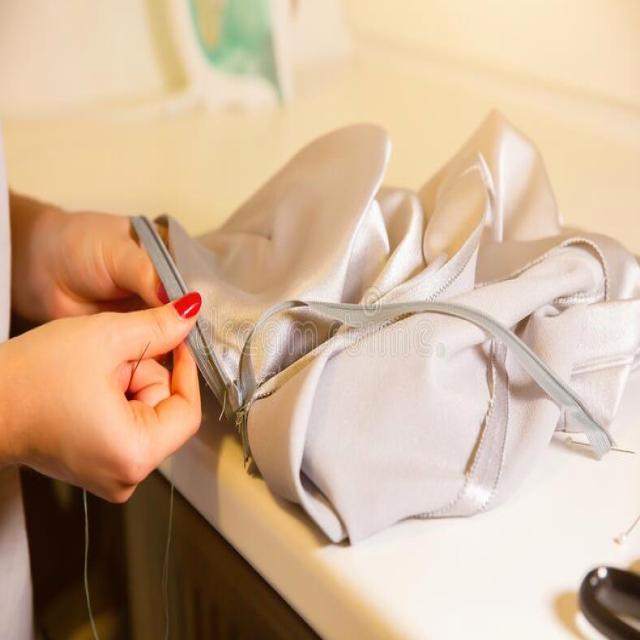clothes: (233, 119, 640, 525)
